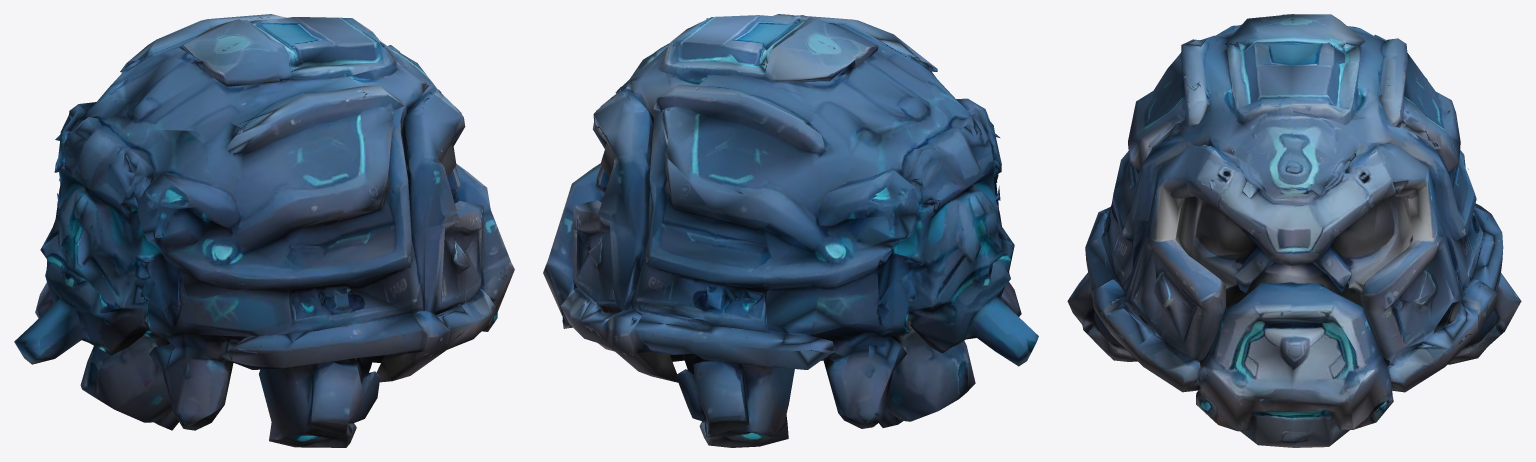
3 views of the same model, side by side, from view 1: azimuth 30°, elevation 25°; view 2: azimuth 150°, elevation 25°; view 3: azimuth 270°, elevation 25° (orthographic). The views are drawn at different scales.
Parts seen in each view (by area): view 1: tripo_node_196b8b1d-e7f8-4b34-99c5-7f69044d3f92; view 2: tripo_node_196b8b1d-e7f8-4b34-99c5-7f69044d3f92; view 3: tripo_node_196b8b1d-e7f8-4b34-99c5-7f69044d3f92.
Part boxes in pixels (x1=…): tripo_node_196b8b1d-e7f8-4b34-99c5-7f69044d3f92: x1=14, y1=14, x2=514, y2=447; tripo_node_196b8b1d-e7f8-4b34-99c5-7f69044d3f92: x1=543, y1=14, x2=1038, y2=447; tripo_node_196b8b1d-e7f8-4b34-99c5-7f69044d3f92: x1=1067, y1=14, x2=1521, y2=447.
Bounding box in the file's own units: 0.9975 × 0.7541 × 0.8712.
Materials: 1 (1 with a texture image).
